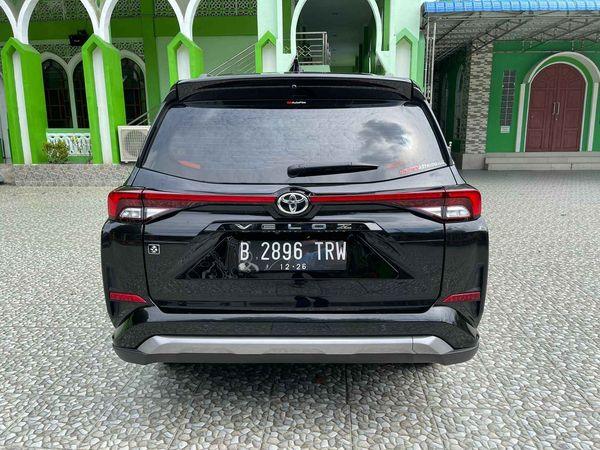plate: (234, 231, 353, 278)
